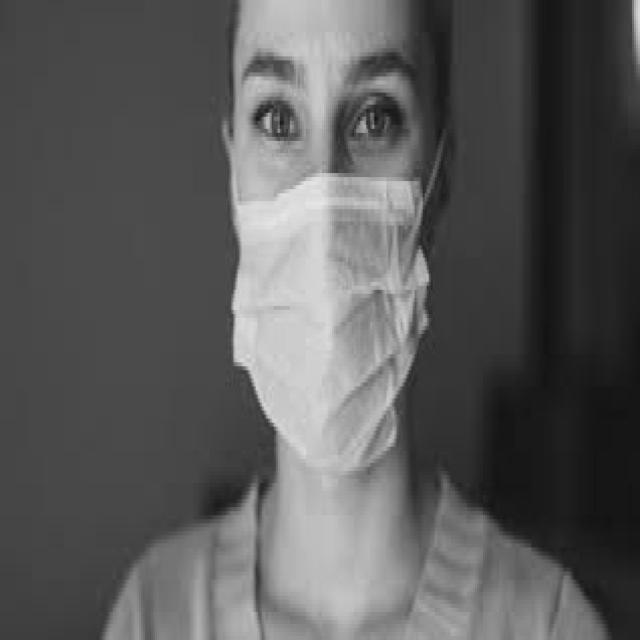with_mask: (227, 129, 445, 475)
